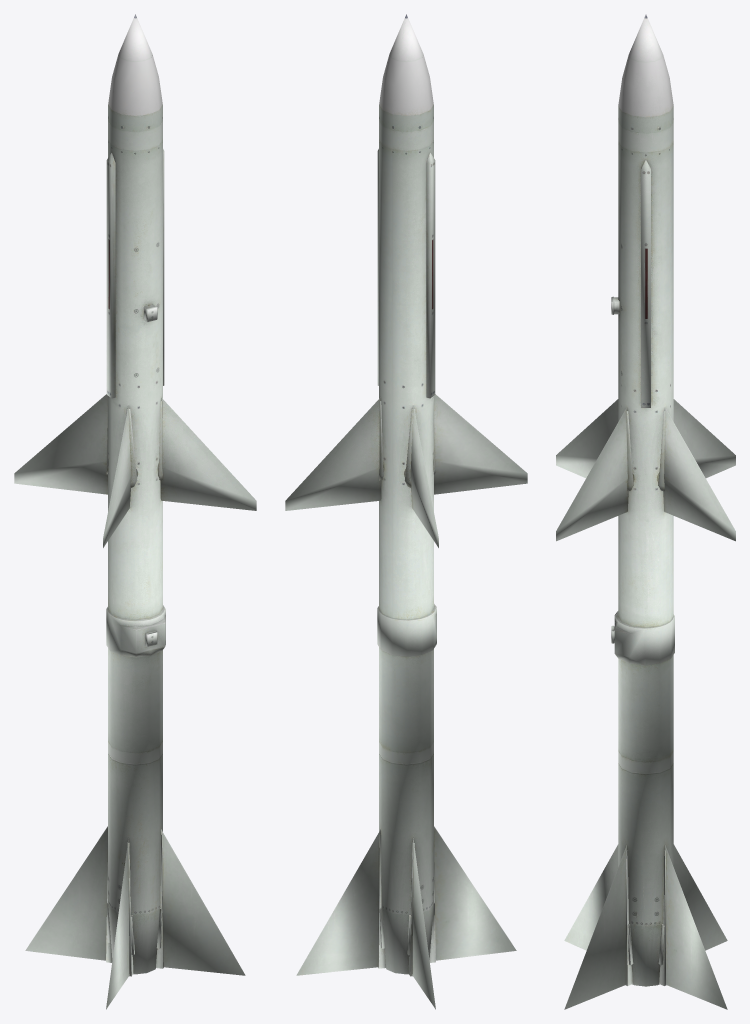
3 renders of one model, left to right at view 1: azimuth 30°, elevation 25°; view 2: azimuth 150°, elevation 25°; view 3: azimuth 270°, elevation 25°, orthographic.
Parts seen in each view (by area): view 1: PL-11; view 2: PL-11; view 3: PL-11.
Boxes of the visible parts, x1,y1,x2,y2 form: PL-11: (14,14,256,1009); PL-11: (285,14,527,1009); PL-11: (556,14,735,1009).
Size of the model in its own units: 0.4063 by 2.4 by 0.4063.
Materials: 1 (1 with a texture image).
